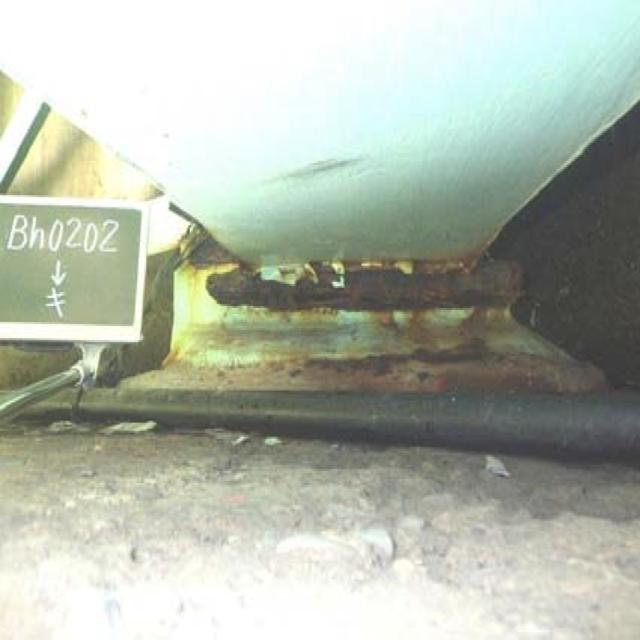corrosion: (164, 221, 619, 396)
